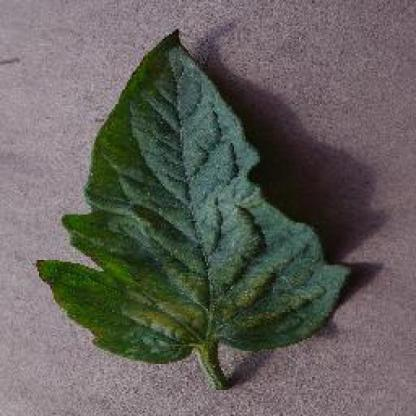Tomato_Spider_Mites: (36, 29, 351, 362)
